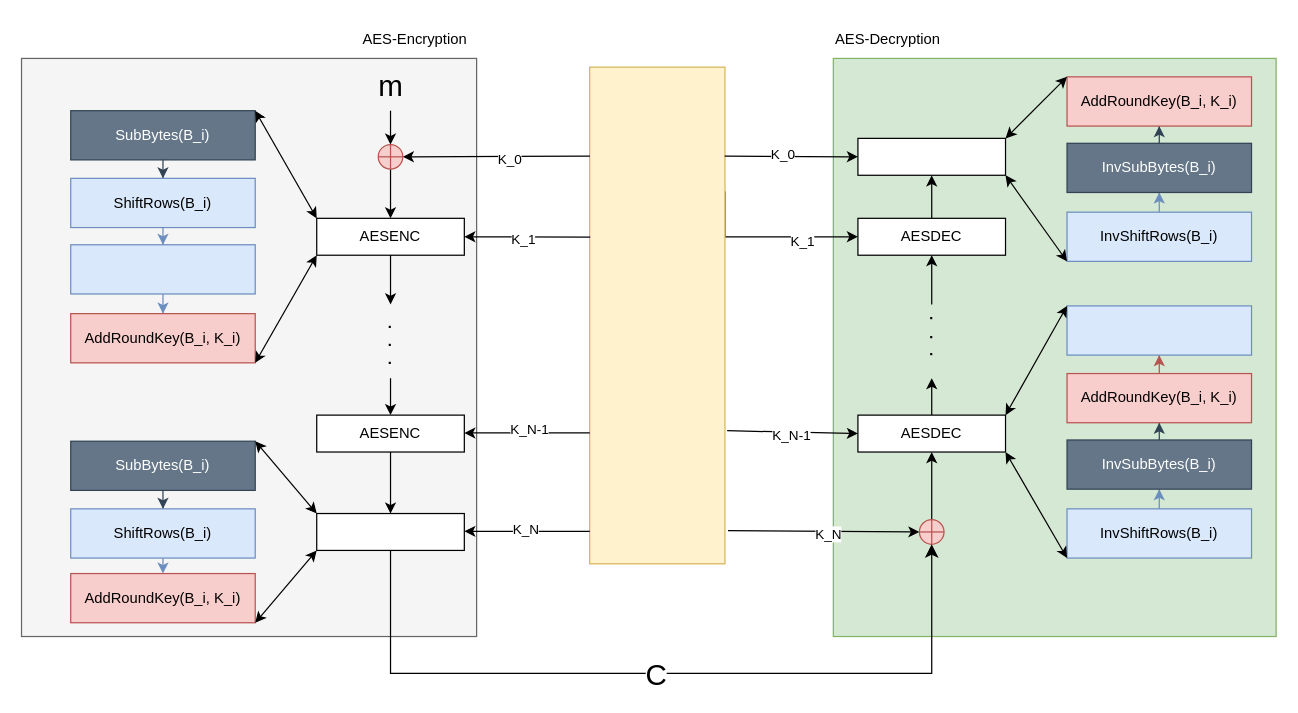
This 1298x713 diagram has some shape labels left out. Each missing label, with the centre of its shape:
AESDECLAST: point 931,156
AESENCLAST: point 389,531
InvMixColumns(B_i): point 1159,330
KEY EXPANSION: point 656,315
MixColumns(B_i): point 162,269
